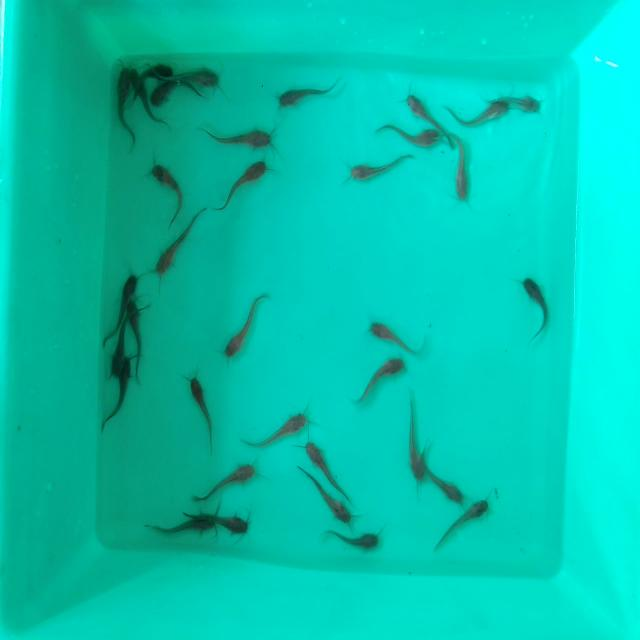lele: (222, 289, 262, 357), (303, 438, 351, 494), (355, 353, 405, 405), (198, 458, 253, 505), (348, 151, 413, 190), (246, 404, 309, 444), (424, 446, 464, 508), (303, 482, 356, 528), (99, 364, 131, 440), (222, 159, 267, 211), (448, 498, 492, 550), (519, 272, 552, 340), (189, 371, 217, 448), (374, 120, 440, 151), (151, 508, 211, 542), (404, 397, 426, 488), (445, 97, 509, 127), (155, 224, 189, 280), (152, 161, 184, 218), (368, 319, 423, 352), (128, 300, 152, 369), (152, 78, 200, 112), (450, 130, 471, 203), (276, 83, 336, 108), (211, 126, 277, 148), (323, 528, 378, 554), (401, 90, 441, 123), (506, 90, 552, 118), (173, 62, 231, 84), (107, 318, 128, 377), (114, 67, 130, 137), (113, 268, 136, 311), (133, 69, 152, 120), (211, 508, 253, 531), (148, 58, 174, 80)
